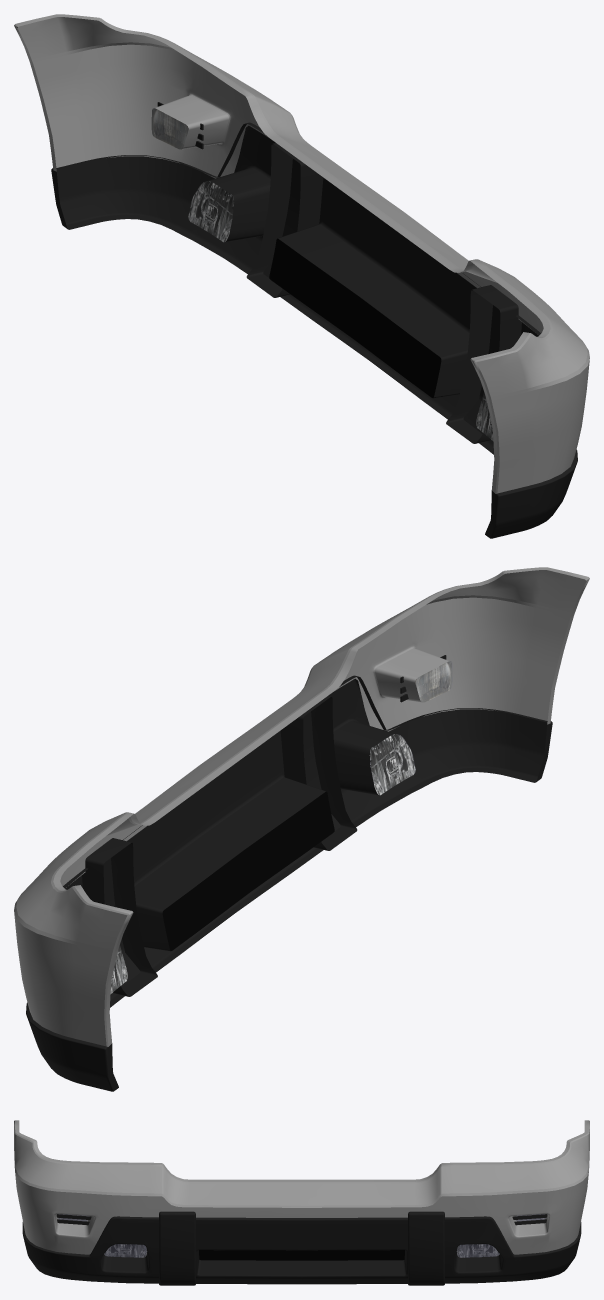
The picture shows the model from 3 angles, top to bottom: view 1: azimuth 30°, elevation 25°; view 2: azimuth 150°, elevation 25°; view 3: azimuth 270°, elevation 25°; orthographic projection. The views are drawn at different scales.
Parts seen in each view (by area): view 1: U843_9A_021G_C_U843_9A_021G_C_2_D, U843_9A_021G_C_U843_9A_021G_C_1_DaS, U843_9A_021G_C_U843_9A_021G_C_3_N, U843_9A_021G_C_U843_9A_021G_C_1_DaS_E; view 2: U843_9A_021G_C_U843_9A_021G_C_2_D, U843_9A_021G_C_U843_9A_021G_C_1_DaS, U843_9A_021G_C_U843_9A_021G_C_3_N, U843_9A_021G_C_U843_9A_021G_C_1_DaS_E; view 3: U843_9A_021G_C_U843_9A_021G_C_1_DaS, U843_9A_021G_C_U843_9A_021G_C_2_D, U843_9A_021G_C_U843_9A_021G_C_1_DaS_E, U843_9A_021G_C_U843_9A_021G_C_3_N, U843_9A_021G_C_U843_9A_021G_C_6_DTaSI, U843_9A_021G_C_U843_9A_021G_C_5_DTaSI.
Part boxes in pixels (<box>): U843_9A_021G_C_U843_9A_021G_C_2_D: <box>51,102,577,538</box>; U843_9A_021G_C_U843_9A_021G_C_1_DaS: <box>14,14,589,493</box>; U843_9A_021G_C_U843_9A_021G_C_3_N: <box>151,108,493,440</box>; U843_9A_021G_C_U843_9A_021G_C_1_DaS_E: <box>32,32,589,493</box>; U843_9A_021G_C_U843_9A_021G_C_2_D: <box>26,655,552,1091</box>; U843_9A_021G_C_U843_9A_021G_C_1_DaS: <box>14,567,589,1046</box>; U843_9A_021G_C_U843_9A_021G_C_3_N: <box>110,661,452,993</box>; U843_9A_021G_C_U843_9A_021G_C_1_DaS_E: <box>14,585,571,1046</box>; U843_9A_021G_C_U843_9A_021G_C_1_DaS: <box>14,1120,589,1254</box>; U843_9A_021G_C_U843_9A_021G_C_2_D: <box>22,1211,581,1285</box>; U843_9A_021G_C_U843_9A_021G_C_1_DaS_E: <box>14,1120,589,1236</box>; U843_9A_021G_C_U843_9A_021G_C_3_N: <box>58,1214,545,1257</box>; U843_9A_021G_C_U843_9A_021G_C_6_DTaSI: <box>457,1244,499,1257</box>; U843_9A_021G_C_U843_9A_021G_C_5_DTaSI: <box>104,1244,146,1257</box>.
Size of the model in its own units: 38.48 by 43.66 by 184.
